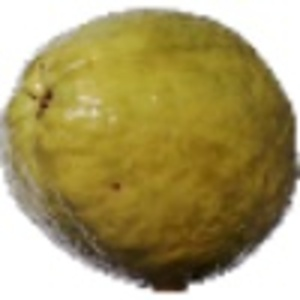goiaba: (2, 6, 295, 291)
